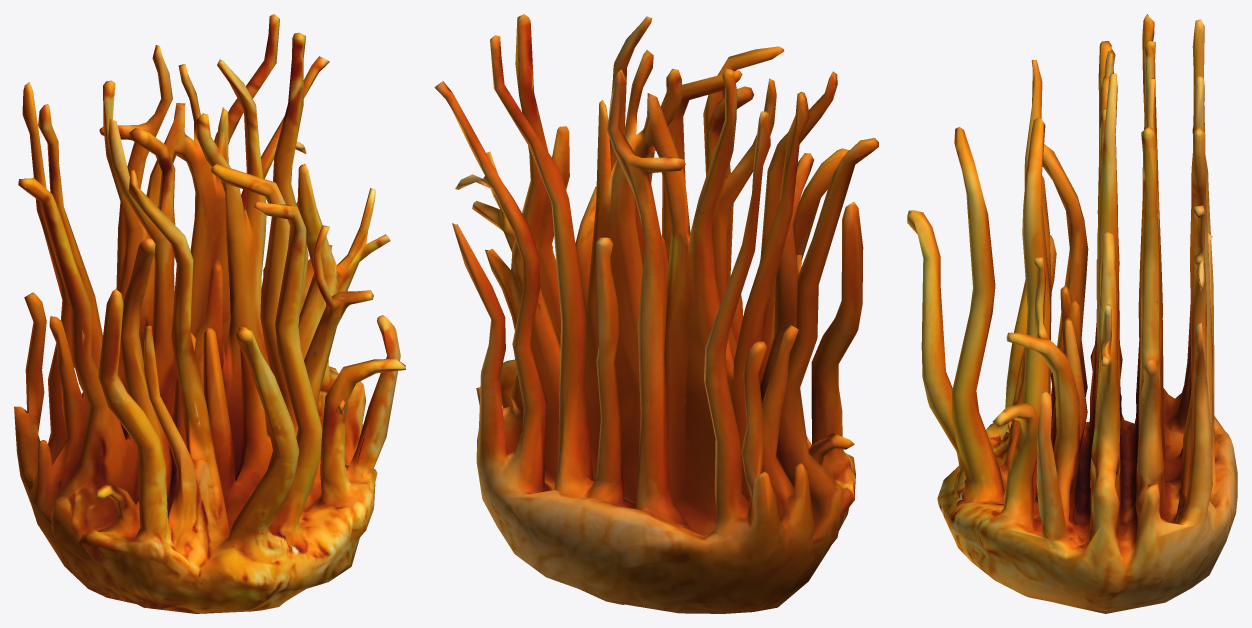
The model's file is cordycep-optimized.glb.
3 renders of one model, left to right at view 1: azimuth 30°, elevation 25°; view 2: azimuth 150°, elevation 25°; view 3: azimuth 270°, elevation 25°, orthographic. The views are drawn at different scales.
Visible parts, largest first — view 1: model; view 2: model; view 3: model.
Boxes of the visible parts, box(x1,y1,x2,y2) form: model: box(14, 14, 405, 613); model: box(434, 14, 878, 613); model: box(907, 14, 1237, 613).
Size of the model in its own units: 1.28 by 1.72 by 1.
Materials: 1 (1 with a texture image).
